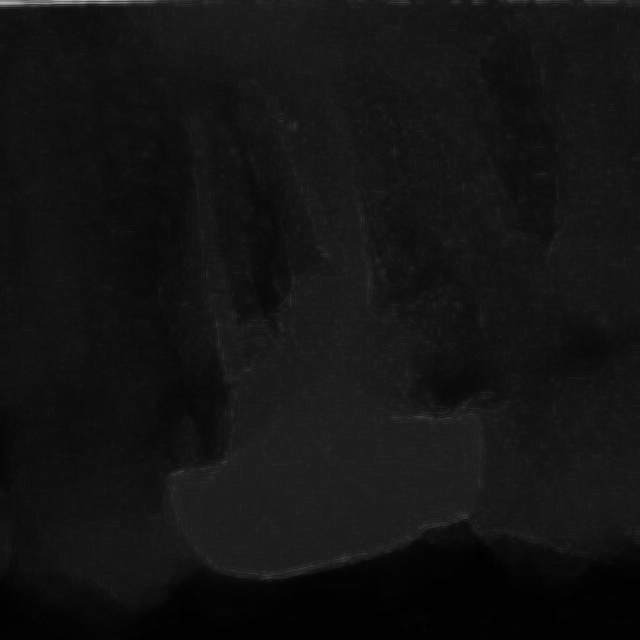Class 1- complete endodontic treatment: (86, 36, 512, 483)
